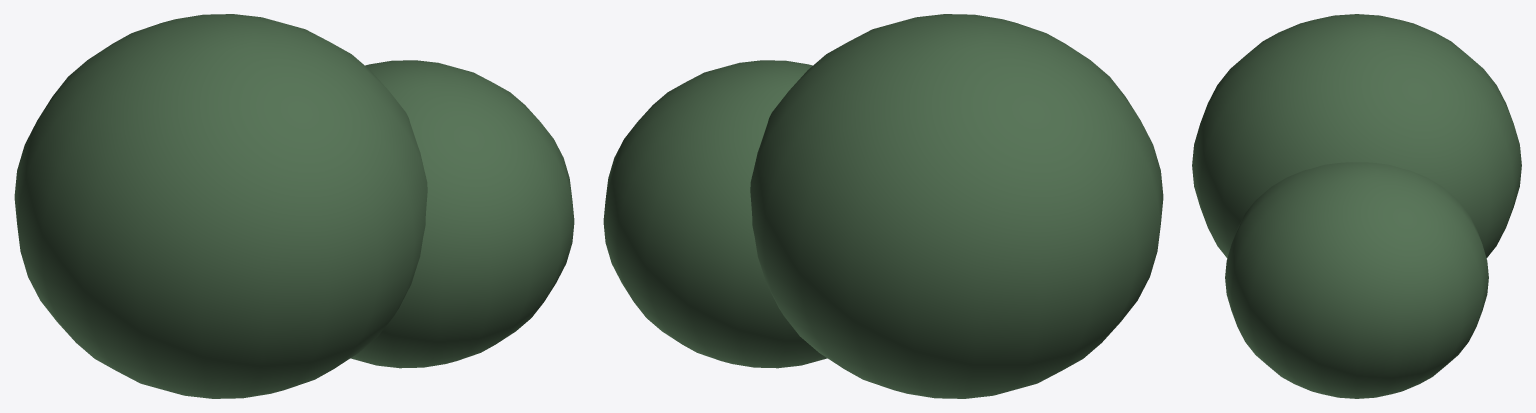
File: Bush 2.fbx
3 views of the same model, side by side, from view 1: azimuth 30°, elevation 25°; view 2: azimuth 150°, elevation 25°; view 3: azimuth 270°, elevation 25° (orthographic). The views are drawn at different scales.
Parts seen in each view (by area): view 1: pSphere15, pSphere16; view 2: pSphere15, pSphere16; view 3: pSphere16, pSphere15.
Boxes of the visible parts, box(x1,y1,x2,y2) form: pSphere15: box(14, 14, 427, 398); pSphere16: box(350, 60, 574, 368); pSphere15: box(750, 14, 1163, 398); pSphere16: box(603, 60, 827, 368); pSphere16: box(1225, 162, 1488, 398); pSphere15: box(1192, 14, 1521, 257).
Bounding box in the file's own units: 7.04 × 4.74 × 5.
